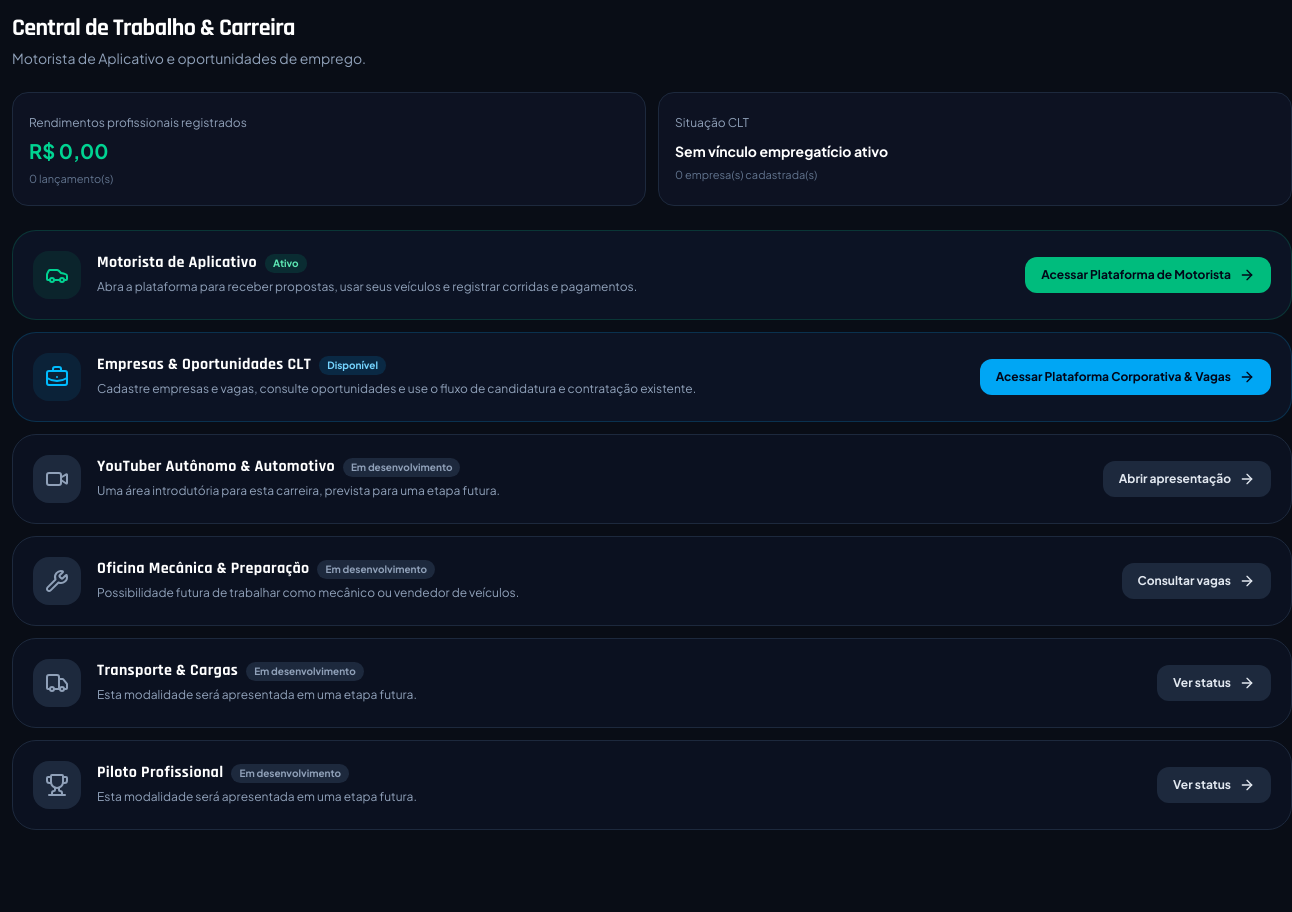
Central de Trabalho & Carreira (JobsPage) › mantém YouTuber como página introdutória, sem dados simulados
Click the button "Abrir apresentação": [1187, 479] box [1103, 461, 1271, 497]
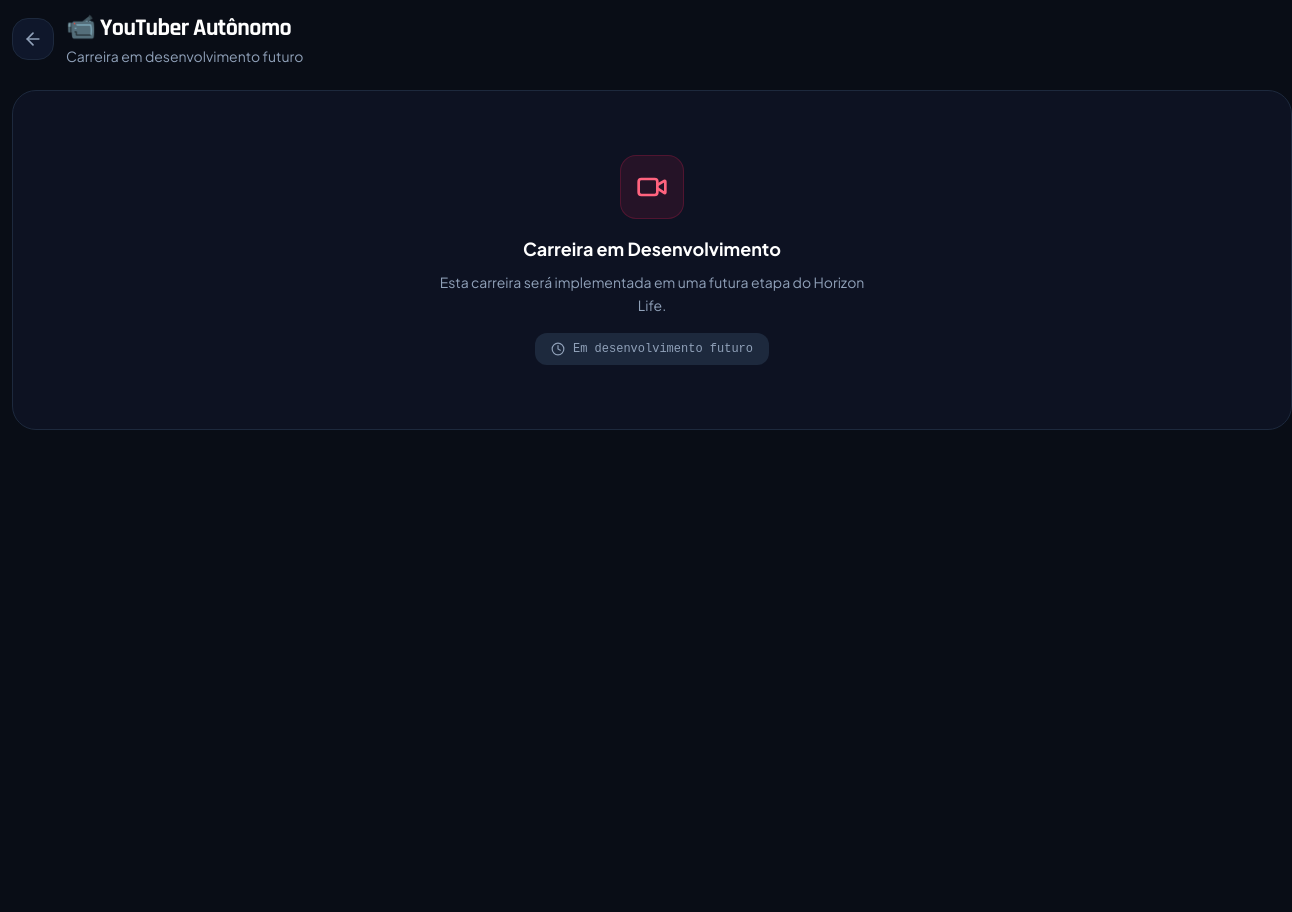
Expected: the text "Esta carreira será implementada em uma futura etapa" is shown, [440, 273, 864, 314]
